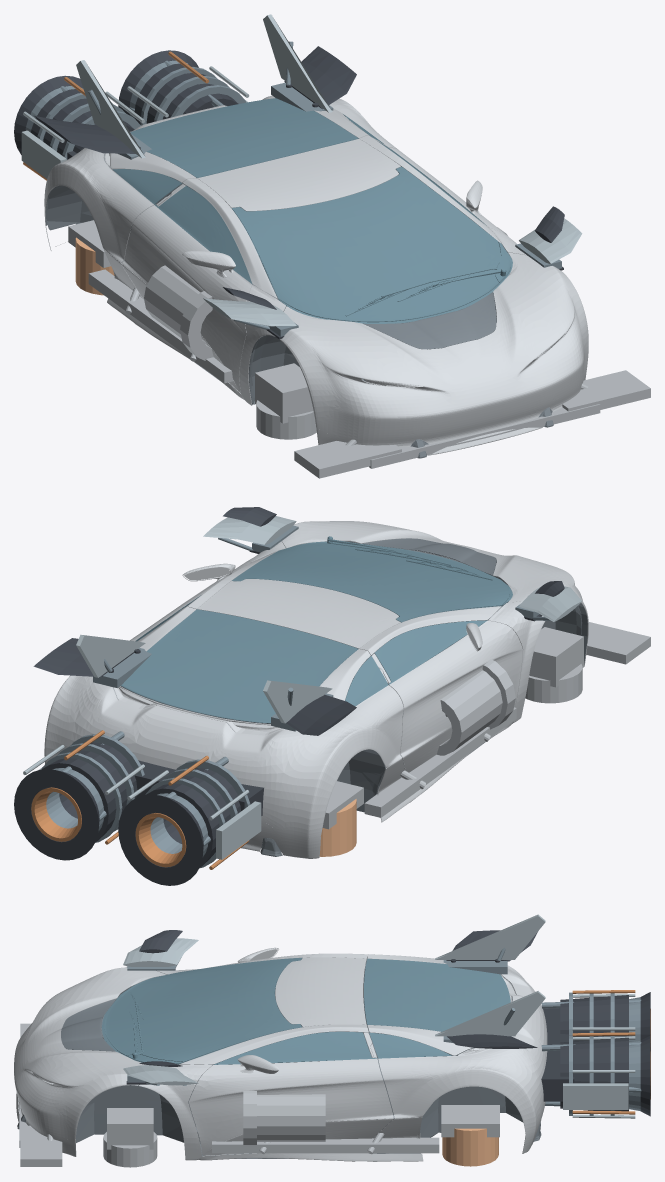
The model's file is preview_aero_stage02.glb.
The picture shows the model from 3 angles, top to bottom: view 1: azimuth 30°, elevation 25°; view 2: azimuth 150°, elevation 25°; view 3: azimuth 270°, elevation 25°; orthographic projection. The views are drawn at different scales.
Parts seen in each view (by area): view 1: DONOR_BodyHood, DONOR_BodyWindshield, DONOR_BodyRearwindow, DONOR_BodyRoofPanel, DONOR_BodyRearPanelsColor1, DONOR_BodyDoorRColor1, DONOR_BodyPillars, DONOR_BodyHoodTopgrill, DONOR_BodyDoorRWindow, DONOR_BodyUnderside, INSTALLED_side_skirts_1_ROCKER_BLADE_-1, INSTALLED_front_lift_port_FRONT_LIFT_MOUNT (+26 smaller); view 2: DONOR_BodyRearPanelsColor1, DONOR_BodyRearwindow, DONOR_BodyWindshield, DONOR_BodyRoofPanel, DONOR_BodyDoorRColor1, DONOR_BodyHood, DONOR_BodyPillars, STAGE02_rear_engine_ENGINE_-1_RECESSED_BELL, STAGE02_rear_engine_ENGINE_1_RECESSED_BELL, INSTALLED_side_intakes_1_SIDE_INTAKE_BORE_-1, DONOR_BodyDoorRWindow, INSTALLED_side_skirts_1_ROCKER_BLADE_-1 (+35 smaller); view 3: DONOR_BodyWindshield, DONOR_BodyHood, DONOR_BodyRearPanelsColor1, DONOR_BodyDoorLColor1, DONOR_BodyRearwindow, DONOR_BodyRoofPanel, DONOR_BodyUnderside, DONOR_BodyPillars, INSTALLED_side_intakes_1_SIDE_INTAKE_BORE_1, INSTALLED_side_skirts_1_ROCKER_BLADE_1, DONOR_BodyDoorLWindow, DONOR_BodyPanelsColor2 (+25 smaller).
Part boxes in pixels (x1,y1,x2,y2): DONOR_BodyHood: (274,252,588,447); DONOR_BodyWindshield: (231,166,500,322); DONOR_BodyRearwindow: (130,98,358,177); DONOR_BodyRoofPanel: (197,138,400,211); DONOR_BodyRearPanelsColor1: (44,95,398,262); DONOR_BodyDoorRColor1: (121,205,252,392); DONOR_BodyPillars: (183,135,526,405); DONOR_BodyHoodTopgrill: (363,292,496,349); DONOR_BodyDoorRWindow: (159,185,251,282); DONOR_BodyUnderside: (46,185,299,404); INSTALLED_side_skirts_1_ROCKER_BLADE_-1: (88,269,233,383); INSTALLED_front_lift_port_FRONT_LIFT_MOUNT: (255,363,313,423); DONOR_BodyRearPanelsColor1: (44,606,403,838); DONOR_BodyRearwindow: (121,609,358,723); DONOR_BodyWindshield: (232,543,509,622); DONOR_BodyRoofPanel: (197,579,400,648); DONOR_BodyDoorRColor1: (389,620,522,757); DONOR_BodyHood: (282,521,588,644); DONOR_BodyPillars: (185,541,545,722); STAGE02_rear_engine_ENGINE_-1_RECESSED_BELL: (118,794,203,885); STAGE02_rear_engine_ENGINE_1_RECESSED_BELL: (14,769,99,860); INSTALLED_side_intakes_1_SIDE_INTAKE_BORE_-1: (436,670,502,755); DONOR_BodyDoorRWindow: (374,620,484,681); INSTALLED_side_skirts_1_ROCKER_BLADE_-1: (364,707,516,817); DONOR_BodyWindshield: (104,957,302,1062); DONOR_BodyHood: (14,967,166,1141); DONOR_BodyRearPanelsColor1: (367,954,547,1134); DONOR_BodyDoorLColor1: (189,1058,393,1155); DONOR_BodyRearwindow: (364,958,510,1031); DONOR_BodyRoofPanel: (275,957,366,1027); DONOR_BodyUnderside: (76,1084,541,1142); DONOR_BodyPillars: (139,953,368,1160); INSTALLED_side_intakes_1_SIDE_INTAKE_BORE_1: (257,1094,325,1141); INSTALLED_side_skirts_1_ROCKER_BLADE_1: (212,1137,439,1153); DONOR_BodyDoorLWindow: (216,1031,371,1063); DONOR_BodyPanelsColor2: (16,1093,545,1161).
Bounding box in the file's own units: 2.76 × 1.42 × 5.19.
